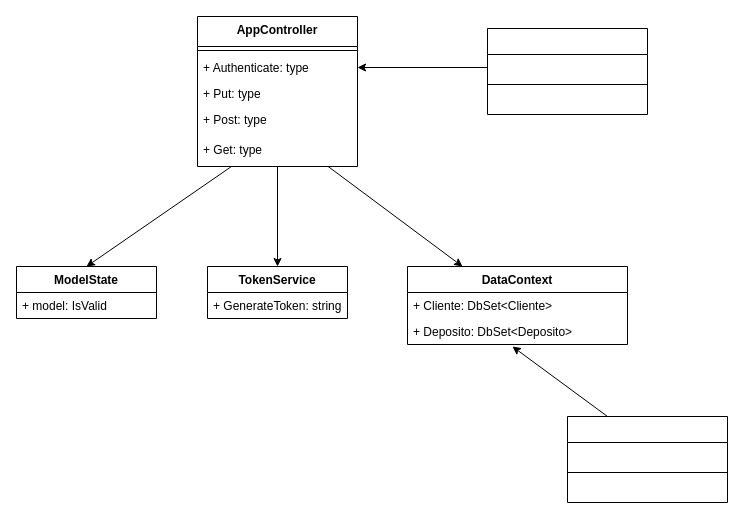
This 744x519 diagram has some shape labels left out. The shapes that lost their labels are listed below. From the top down, each one's centre as x and y in pixels, then its label:
At [567,71]: "Controller".
At [647,459]: "DbContext".
